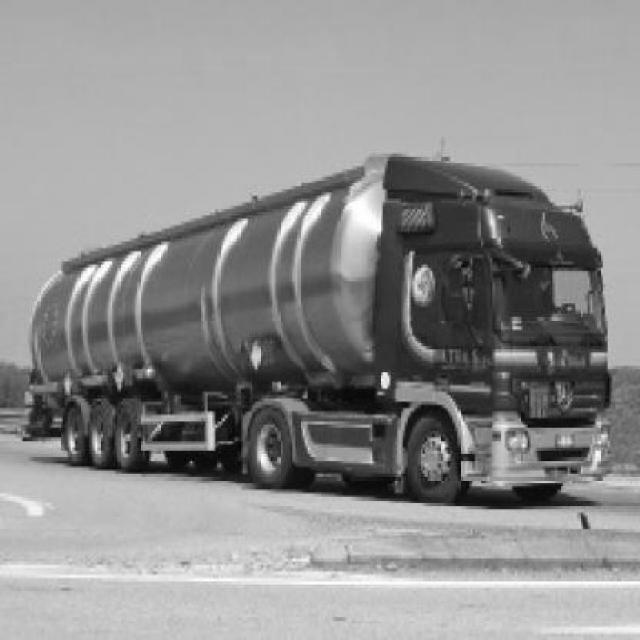Box Truck: (22, 155, 612, 505)
